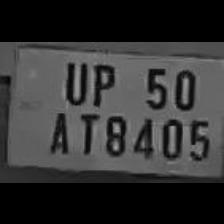0: (168, 61, 198, 108), (158, 111, 182, 158)
4: (128, 110, 154, 158)
5: (140, 61, 168, 108), (184, 112, 211, 160)
8: (100, 111, 127, 155)
A: (43, 105, 71, 155)
P: (87, 57, 117, 104)
T: (72, 108, 98, 154)
U: (58, 56, 88, 103)
